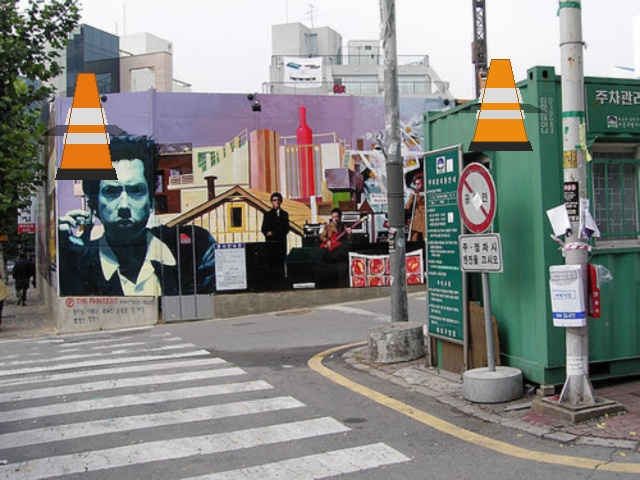traffic-cone: (55, 73, 117, 179), (468, 59, 532, 150)
